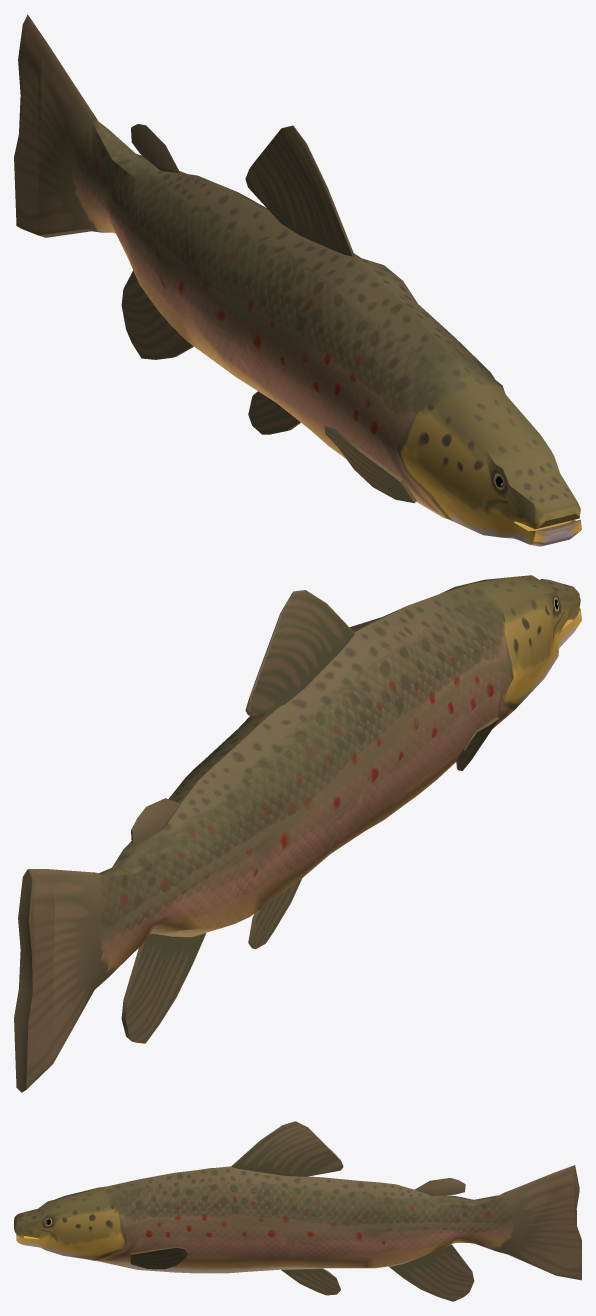
File: Salmo_trutta_fario.fbx
The picture shows the model from 3 angles, top to bottom: view 1: azimuth 30°, elevation 25°; view 2: azimuth 150°, elevation 25°; view 3: azimuth 270°, elevation 25°; orthographic projection. The views are drawn at different scales.
Parts seen in each view (by area): view 1: Truita; view 2: Truita; view 3: Truita.
Boxes of the visible parts, bbox=[...] form: Truita: bbox=[14, 14, 581, 546]; Truita: bbox=[14, 575, 581, 1092]; Truita: bbox=[14, 1121, 581, 1301].
Size of the model in its own units: 72.31 by 161 by 460.
Materials: 1 (1 with a texture image).
